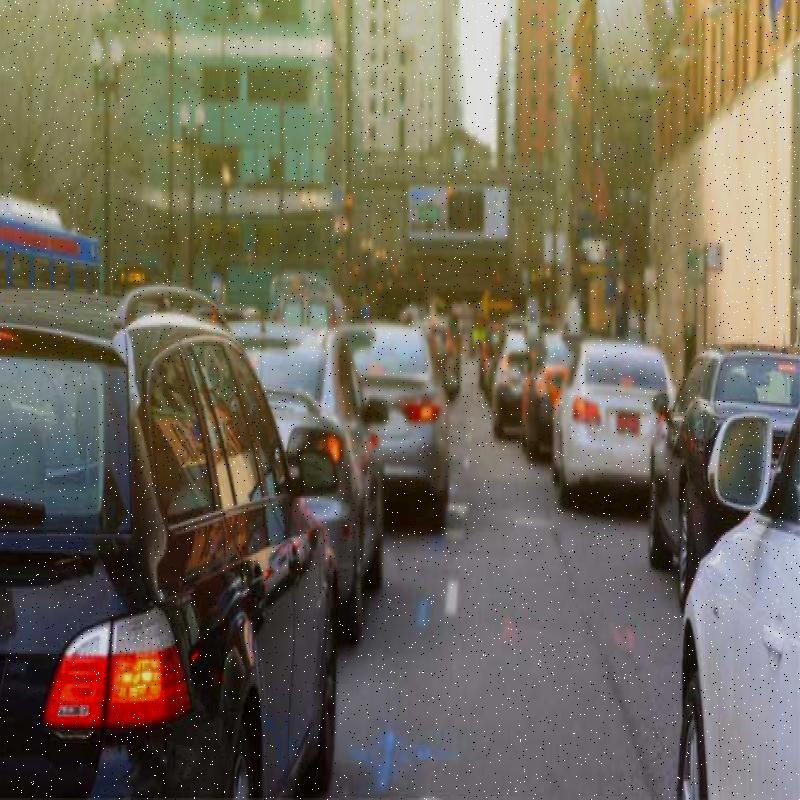car: (1, 306, 335, 800), (633, 368, 800, 798), (241, 308, 379, 634), (556, 303, 676, 528), (355, 304, 445, 516)
